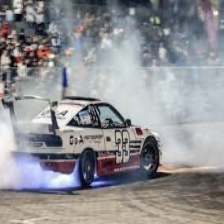smoke: (123, 52, 216, 141), (10, 163, 69, 188)
